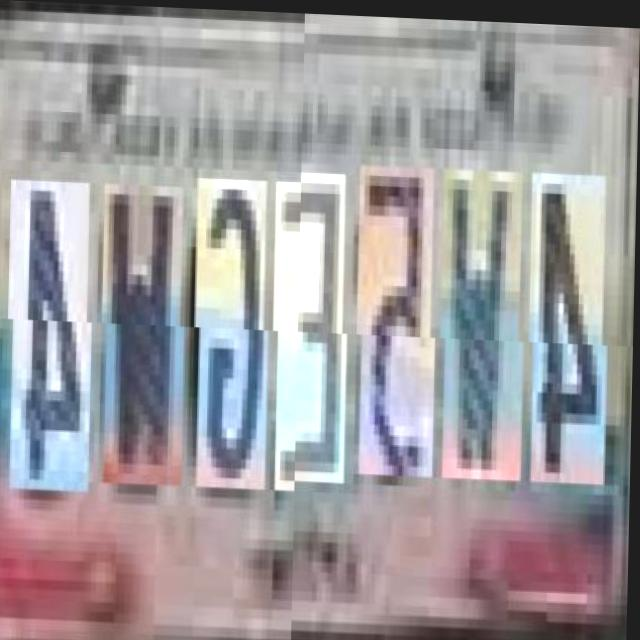4: (7, 179, 91, 492), (527, 177, 606, 490)
5: (356, 171, 434, 484)
e: (272, 178, 346, 491)
g: (193, 176, 267, 488)
w: (439, 174, 523, 487), (101, 182, 185, 485)
